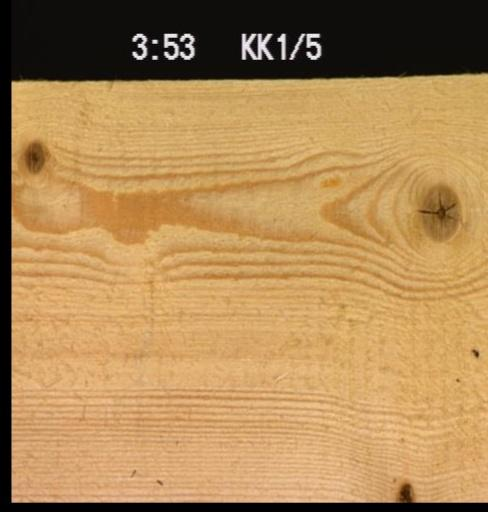edge_knot: (394, 479, 416, 501)
sound_knot: (414, 180, 462, 242), (20, 135, 48, 174)
